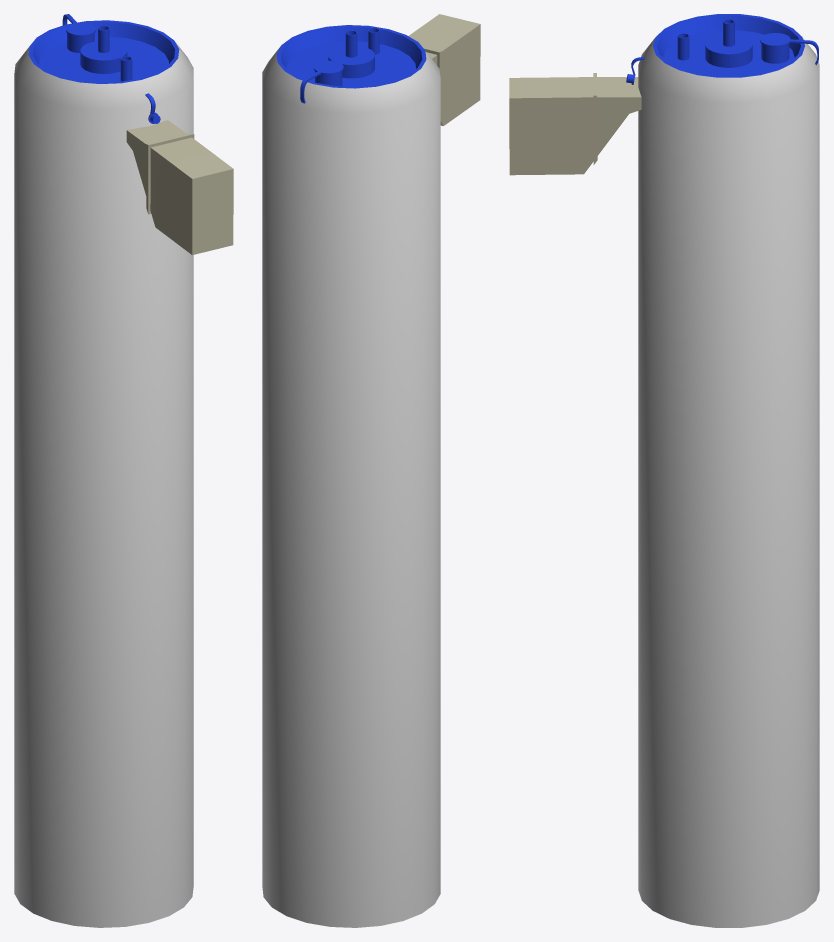
File: hemo_can.fbx
3 views of the same model, side by side, from view 1: azimuth 30°, elevation 25°; view 2: azimuth 150°, elevation 25°; view 3: azimuth 270°, elevation 25° (orthographic).
Parts seen in each view (by area): view 1: HemoCanOverflow, hemifilter_can; view 2: HemoCanOverflow, hemifilter_can; view 3: HemoCanOverflow, hemifilter_can.
Part boxes in pixels (x1,y1,x2,y2): HemoCanOverflow: [14, 42, 193, 927]; hemifilter_can: [28, 14, 233, 254]; HemoCanOverflow: [262, 46, 440, 927]; hemifilter_can: [276, 14, 480, 125]; HemoCanOverflow: [638, 37, 819, 927]; hemifilter_can: [509, 14, 818, 175].
Size of the model in its own units: 12.18 by 64.94 by 21.05.
